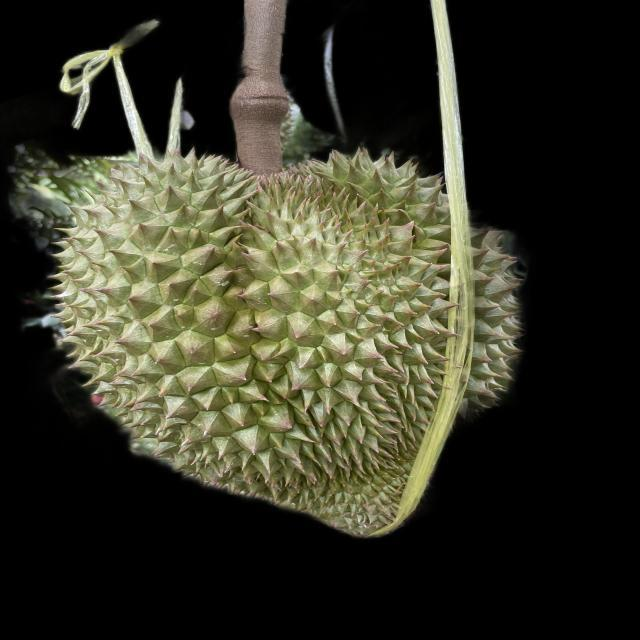immature: (50, 153, 456, 545)
